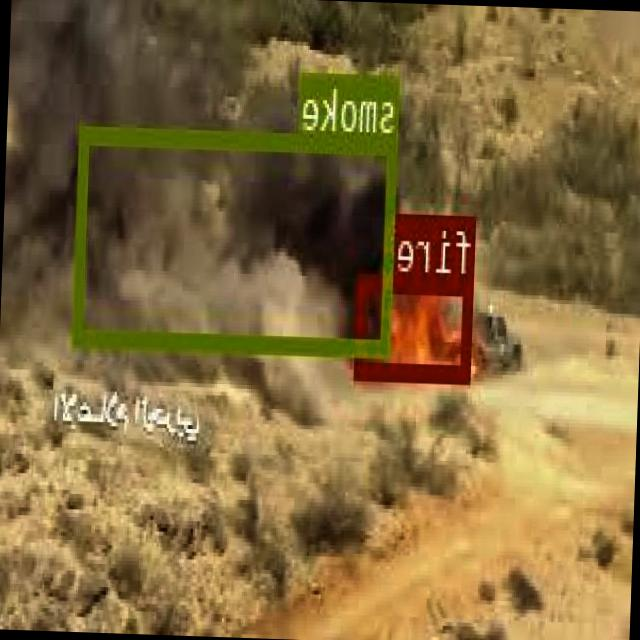fire: (356, 273, 476, 380)
smoke: (74, 122, 400, 352)
